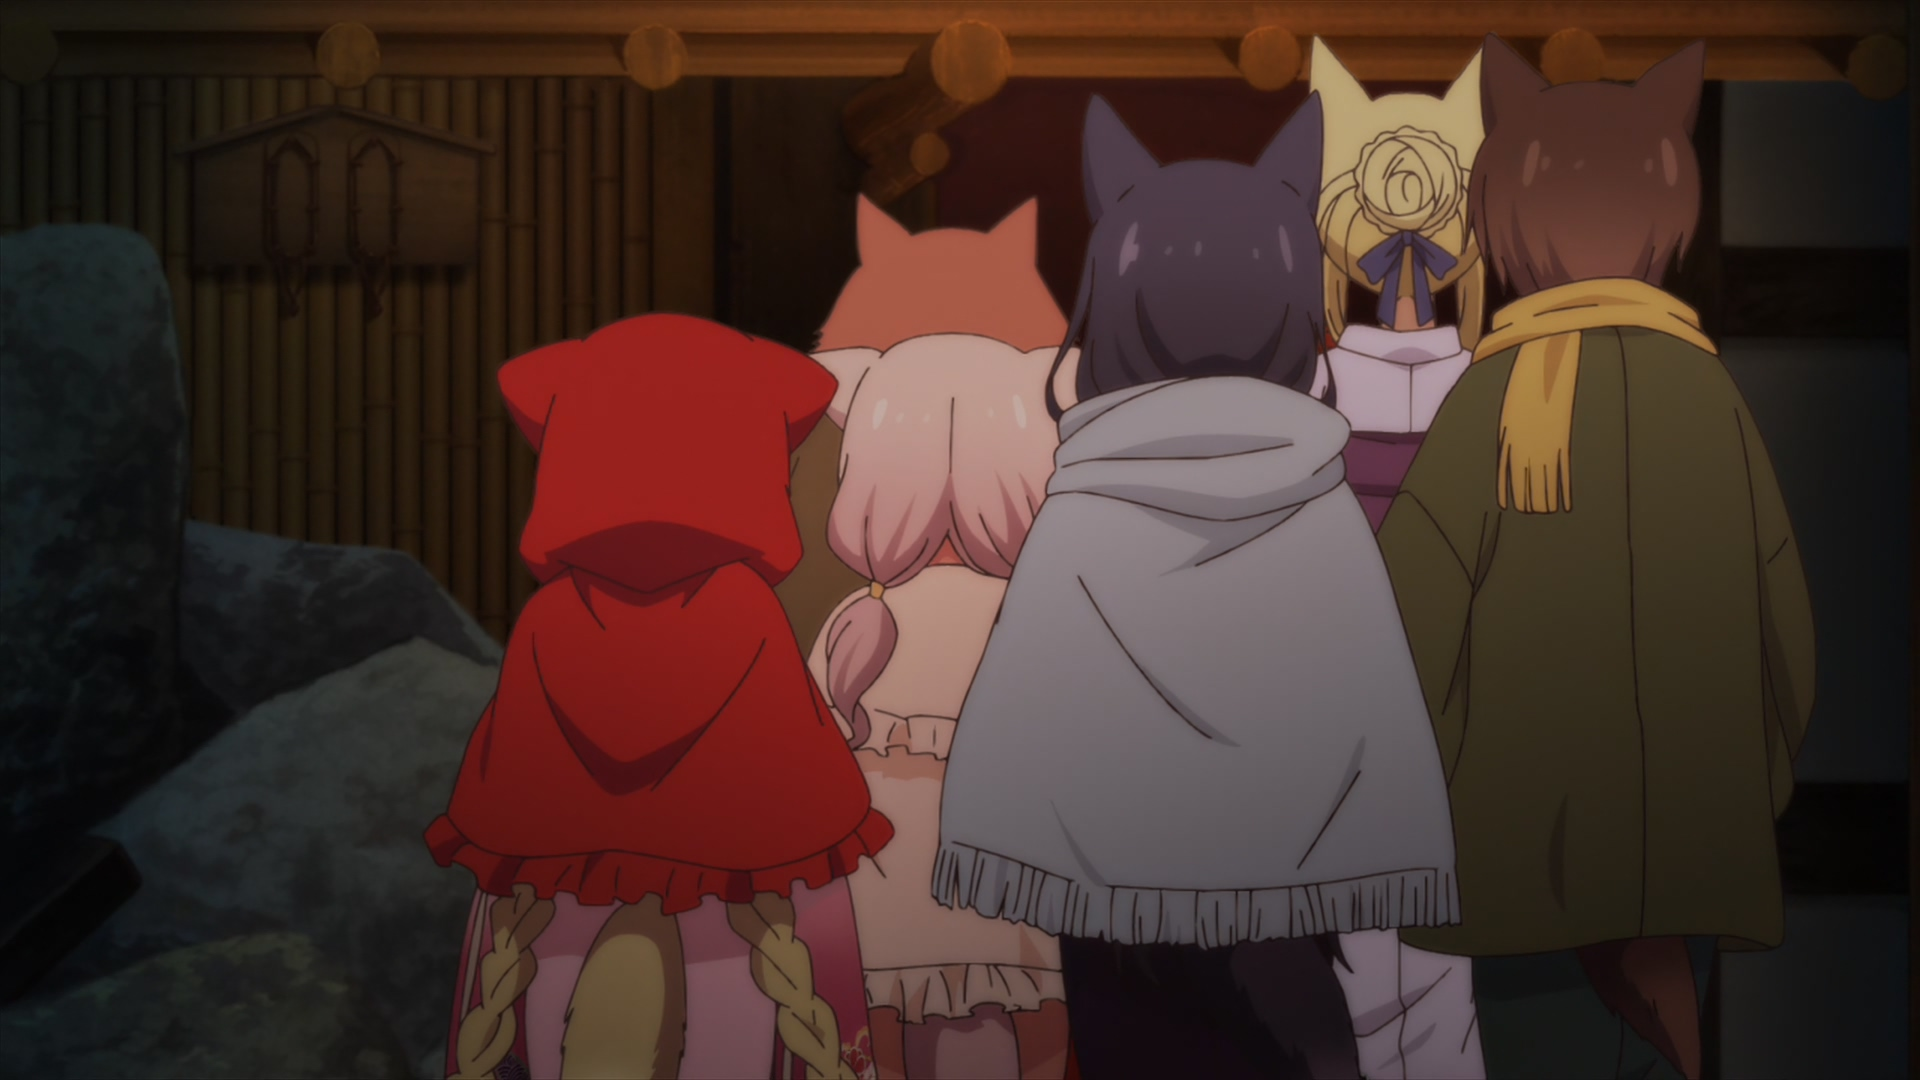枣: (1374, 32, 1816, 1080)
柚: (425, 313, 898, 1080)
桐: (1311, 32, 1487, 527)
椿: (816, 193, 1072, 349)
皋: (930, 90, 1462, 1080)
莲: (807, 335, 1080, 1080)
